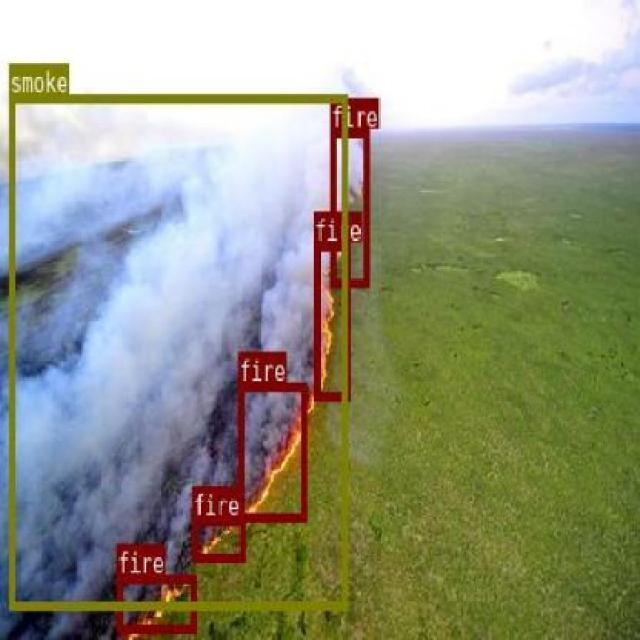Fire: (245, 375, 310, 515), (130, 560, 193, 630), (322, 230, 342, 395), (202, 523, 245, 553)
Smoke: (0, 13, 365, 632)
